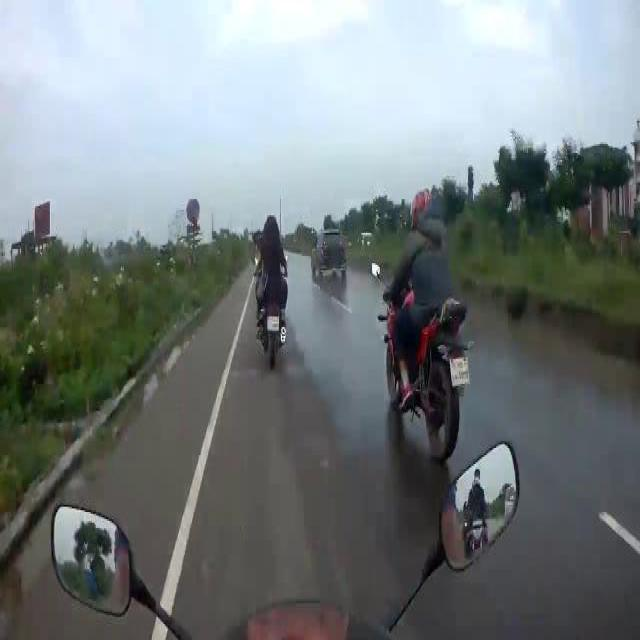car: (308, 224, 350, 286)
motorcycle: (365, 258, 470, 462), (249, 281, 288, 364)
